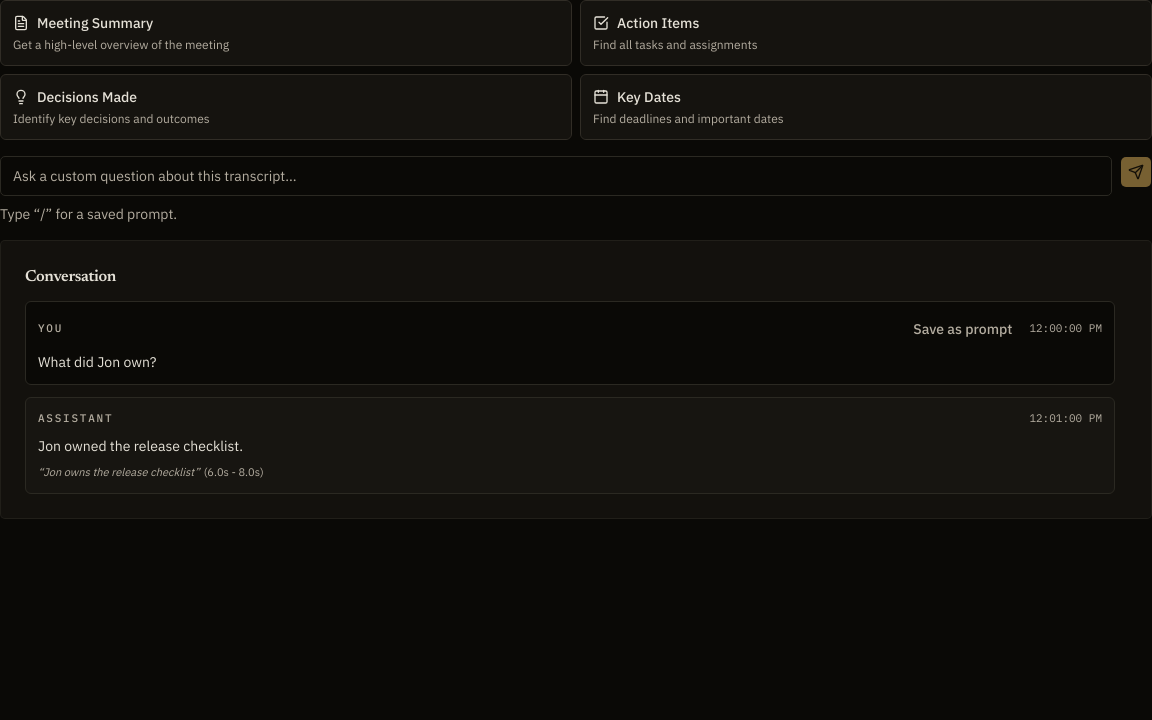
Test: AiAnalysisPanel › renders and extends a persisted meeting conversation
Check: the heading "Conversation" is shown, box top-left (25, 269), bottom-right (116, 285)
Check: the text "Jon owned the release checklist." is shown, box top-left (38, 437), bottom-right (243, 455)
Type "What slipped?" into the field with placeholder "Ask a custom question about this transcript..." at point(556, 176), box top-left (0, 156), bottom-right (1112, 196)
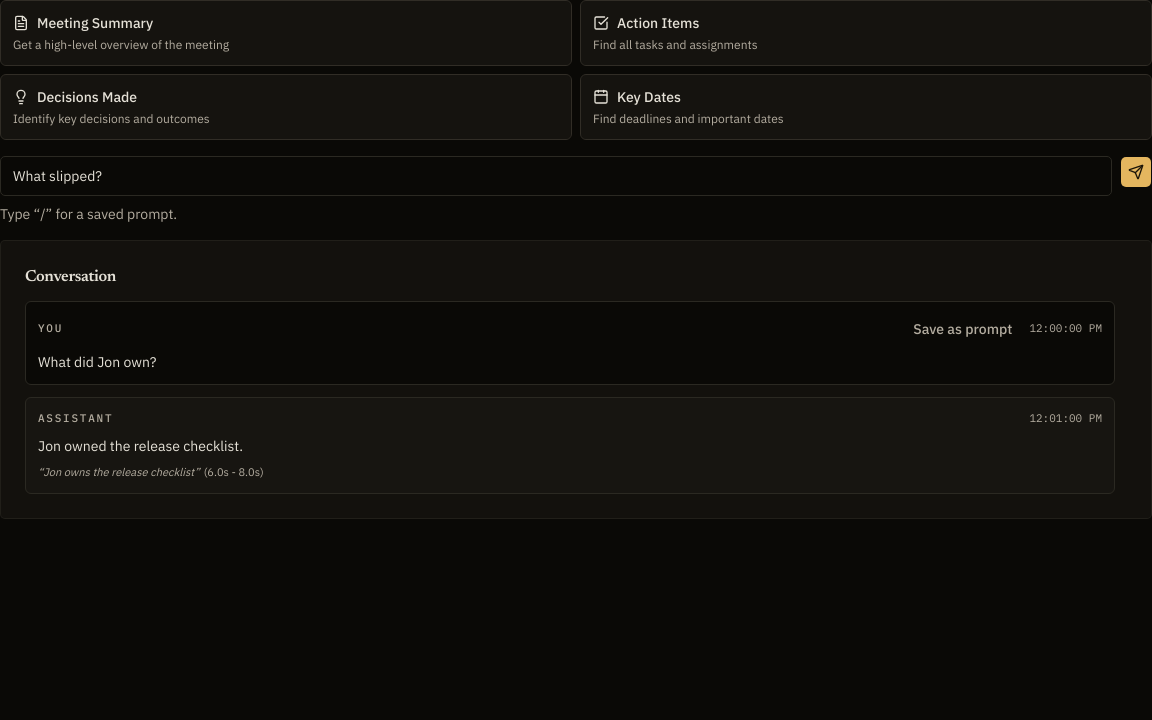
Click the button named "send" at point(1136, 172), box top-left (1120, 156), bottom-right (1151, 188)
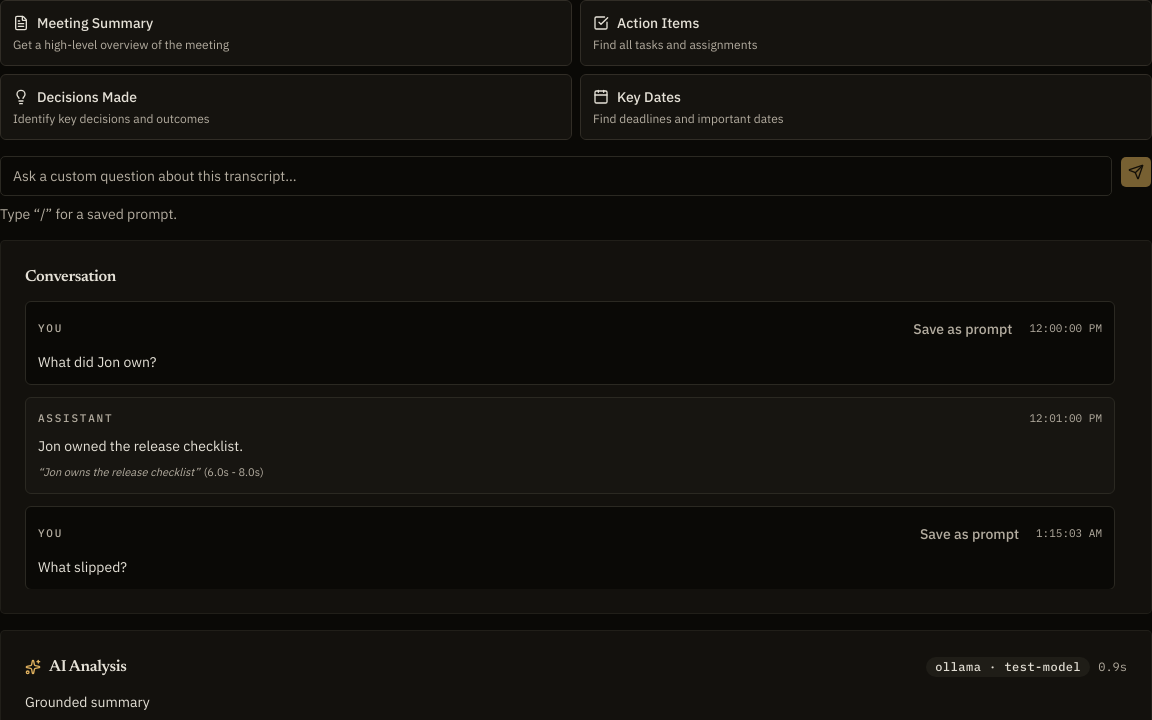
Check: the text "What slipped?" is shown, box top-left (38, 558), bottom-right (127, 576)
